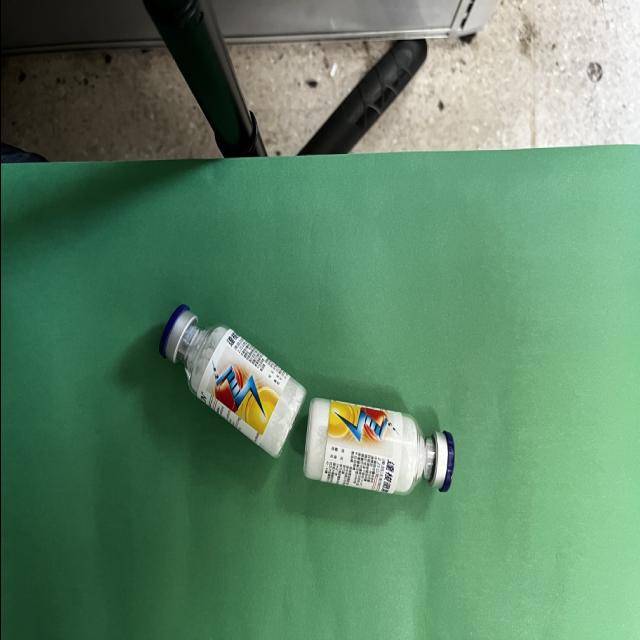Vials: (159, 304, 304, 456), (302, 397, 454, 495)
